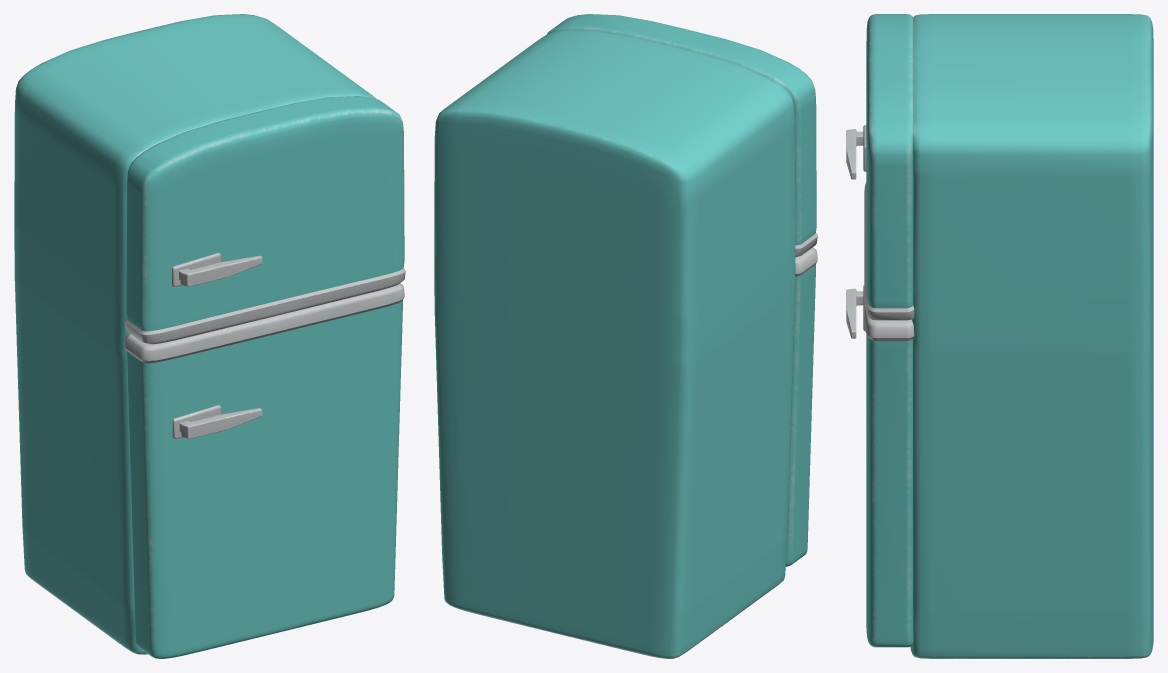
The model's file is cartoon_fridge.glb.
The picture shows the model from 3 angles, left to right: view 1: azimuth 30°, elevation 25°; view 2: azimuth 150°, elevation 25°; view 3: azimuth 270°, elevation 25°; orthographic projection. The views are drawn at different scales.
Visible parts, largest first — view 1: Fridge_DoorB_2, Fridge_4, Fridge_DoorA_3; view 2: Fridge_4, Fridge_DoorA_3, Fridge_DoorB_2; view 3: Fridge_4, Fridge_DoorB_2, Fridge_DoorA_3.
Part boxes in pixels (left/top/right/bottom): Fridge_DoorB_2: left=125, top=283, right=404, bottom=658; Fridge_4: left=14, top=14, right=376, bottom=654; Fridge_DoorA_3: left=125, top=96, right=405, bottom=344; Fridge_4: left=434, top=29, right=795, bottom=658; Fridge_DoorA_3: left=547, top=14, right=817, bottom=257; Fridge_DoorB_2: left=785, top=247, right=817, bottom=566; Fridge_4: left=910, top=14, right=1153, bottom=658; Fridge_DoorB_2: left=846, top=285, right=914, bottom=647; Fridge_DoorA_3: left=846, top=14, right=914, bottom=320.
Bounding box in the file's own units: 0.9207 × 1.73 × 0.8872.
3 materials, 3 textured.
